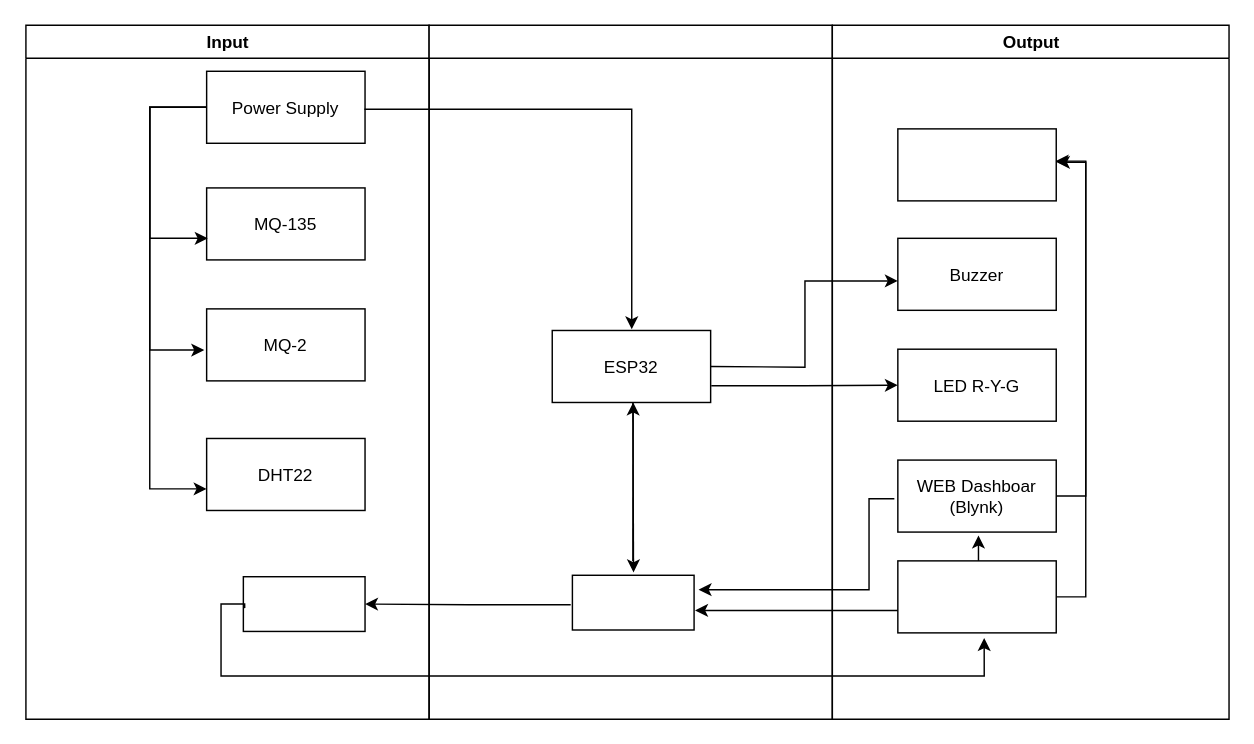
Image size: 1254x744. Some labels were removed from this diagram. Here are the shapes that lost their labels. From the top down, the box of each, then its label:
(896, 127, 1056, 201): Notify(Email, Bylnk)
(428, 24, 832, 719): Proses
(242, 575, 365, 631): Blynk
(571, 574, 694, 630): WIFI
(896, 559, 1056, 633): Mobile Dashboar (Blynk)
